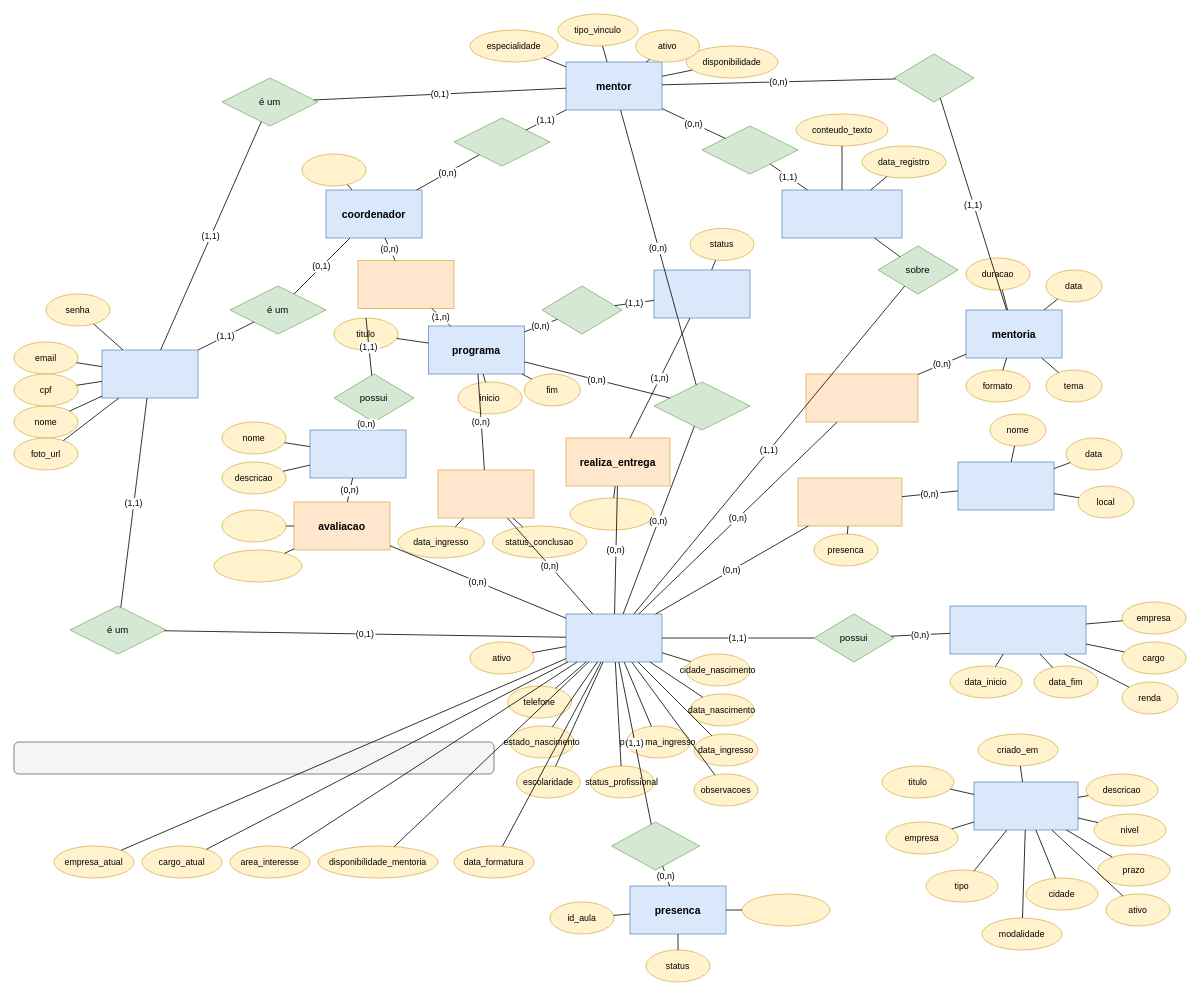
The diagram is 1200 pixels wide and 996 high, and some of its shapes have lost their labels. Here are the shapes that lost their labels. From the top down, the box of each, then its label:
(893, 53, 974, 102): realiza
(453, 117, 550, 166): cadastra
(701, 125, 798, 174): escreve
(301, 153, 366, 186): area
(781, 189, 902, 238): anotacao_privada
(357, 260, 454, 308): gerencia
(653, 269, 750, 318): atividade
(541, 285, 622, 334): define
(101, 349, 198, 398): usuario
(653, 381, 750, 430): acompanha
(805, 373, 918, 422): participa_mentoria
(309, 429, 406, 478): indicador
(437, 469, 534, 518): matricula
(797, 477, 902, 526): participa_evento
(957, 461, 1054, 510): evento
(221, 509, 286, 542): nota
(569, 497, 654, 530): data_entrega
(213, 549, 302, 582): data_avaliacao
(565, 613, 662, 662): aluno
(949, 605, 1086, 654): historico_profissional
(13, 741, 494, 774): LEGENDA: 🔵 Entidade regular 🟠 Entidade associativa 🟢 Relacionamento 🟡 Atributo
(973, 781, 1078, 830): oportunidade
(611, 821, 700, 870): registra
(741, 893, 830, 926): registrado_em
